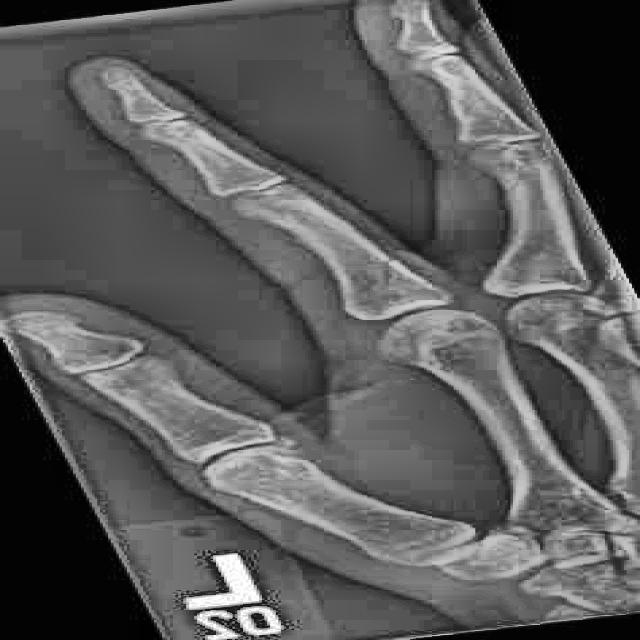fingers positive: (351, 243, 432, 333)
